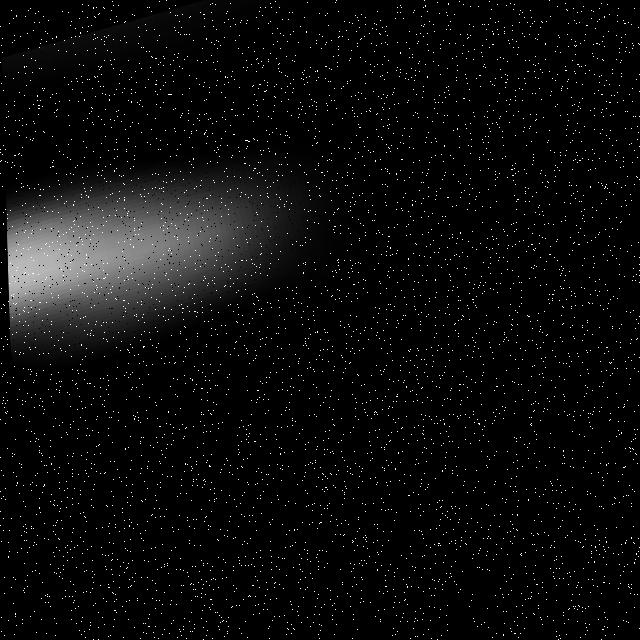person: (3, 73, 387, 361)
